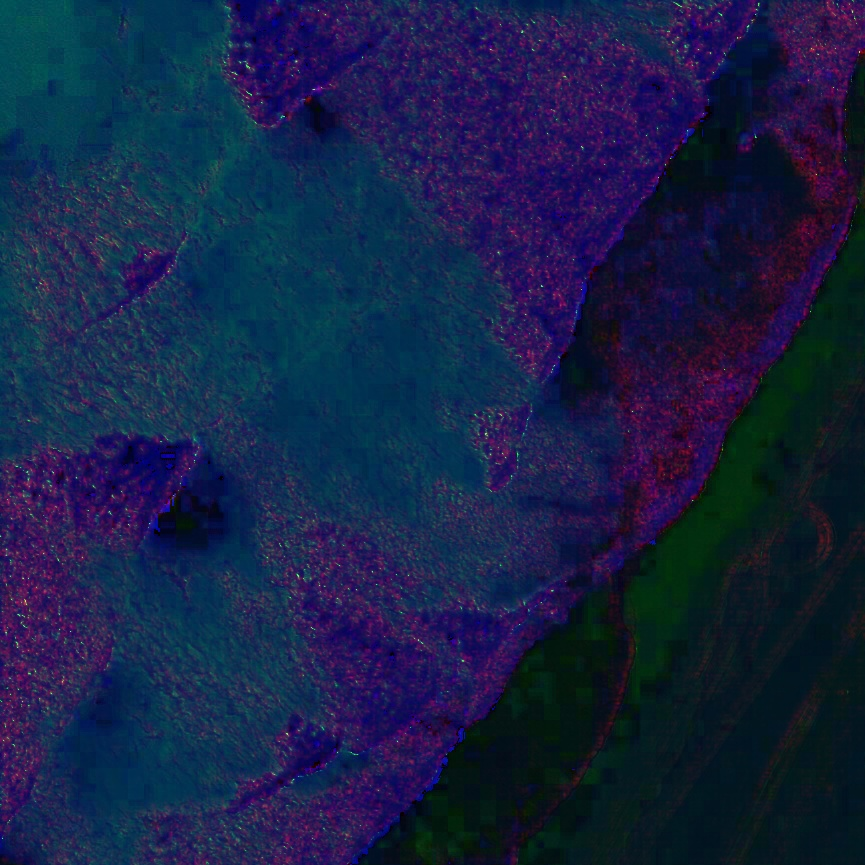rip_current: (136, 113, 604, 573)
